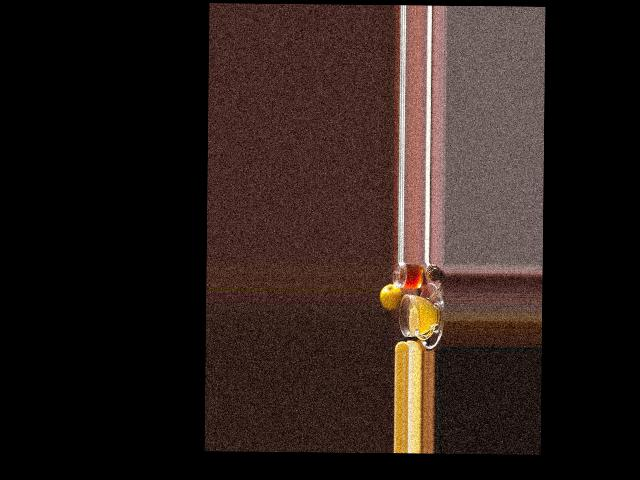lemon: (379, 282, 403, 314)
